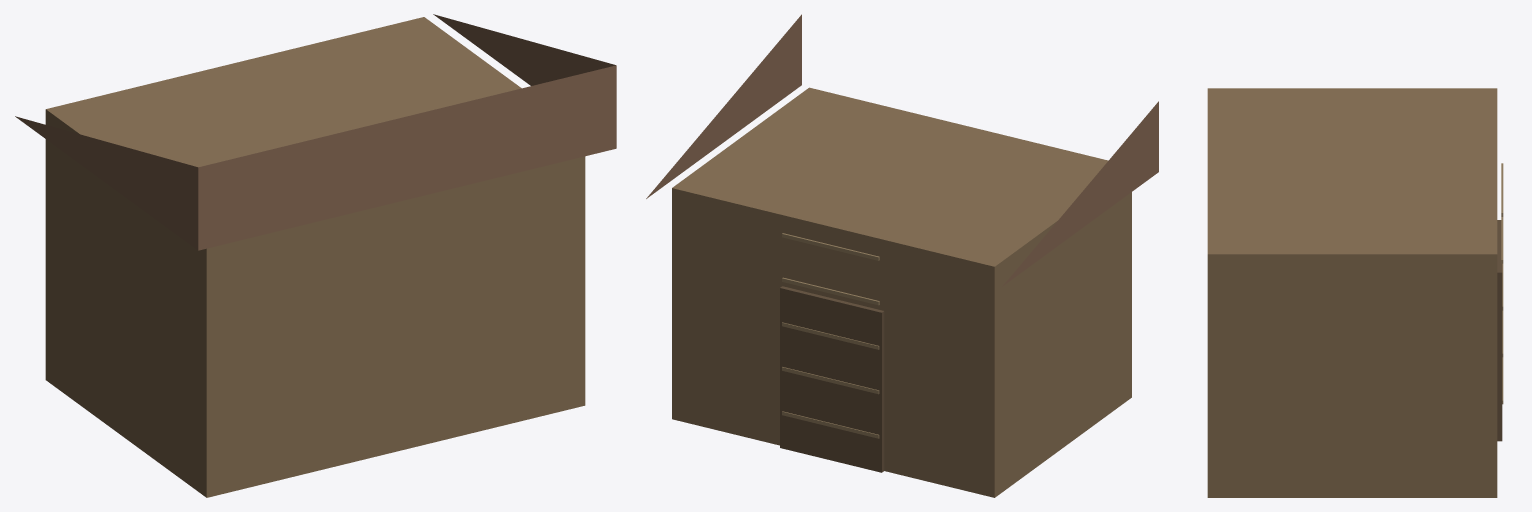
Rendered from i_shed.glb.
3 views of the same model, side by side, from view 1: azimuth 30°, elevation 25°; view 2: azimuth 150°, elevation 25°; view 3: azimuth 270°, elevation 25° (orthographic). The views are drawn at different scales.
Visible parts, largest first — view 1: body; view 2: body; view 3: body.
Part boxes in pixels (x1,y1,x2,y2): body: [15, 14, 616, 497]; body: [646, 14, 1158, 497]; body: [1207, 88, 1503, 497].
Bounding box in the file's own units: 4.2 × 3.3 × 3.2.
